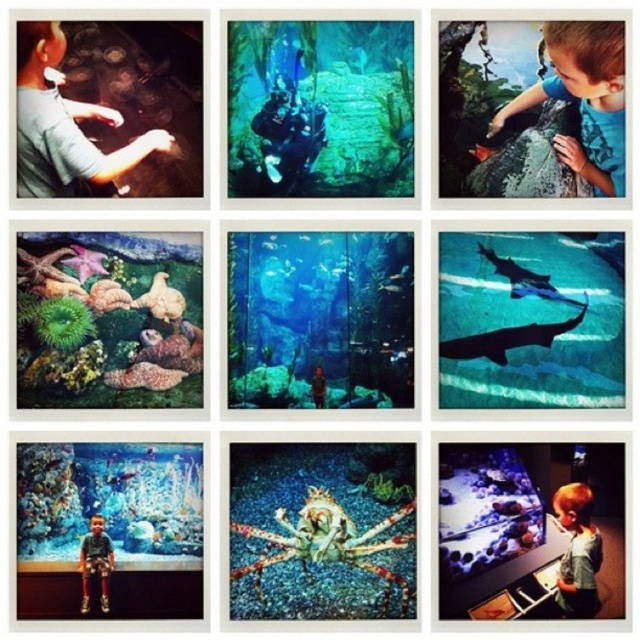Fish: (436, 293, 589, 367)
